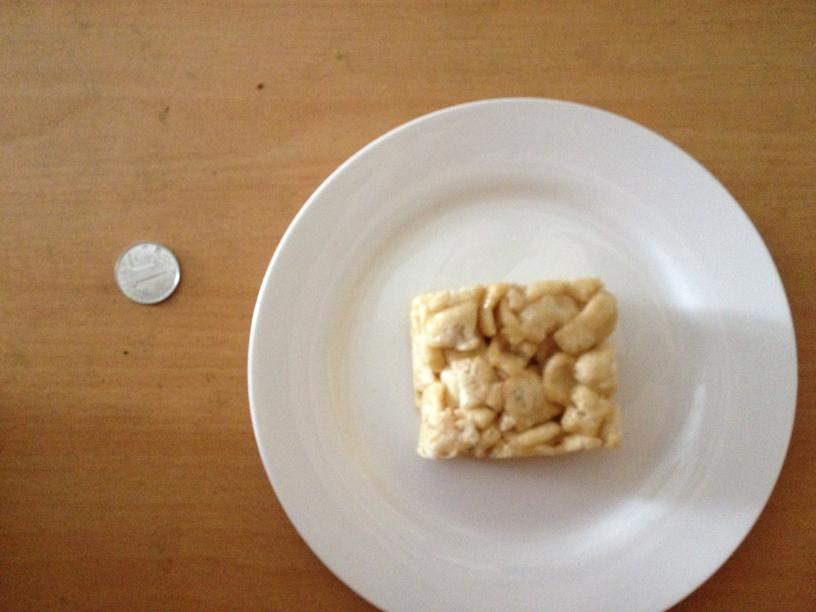coin: (113, 242, 180, 303)
sachima: (396, 281, 626, 460)
